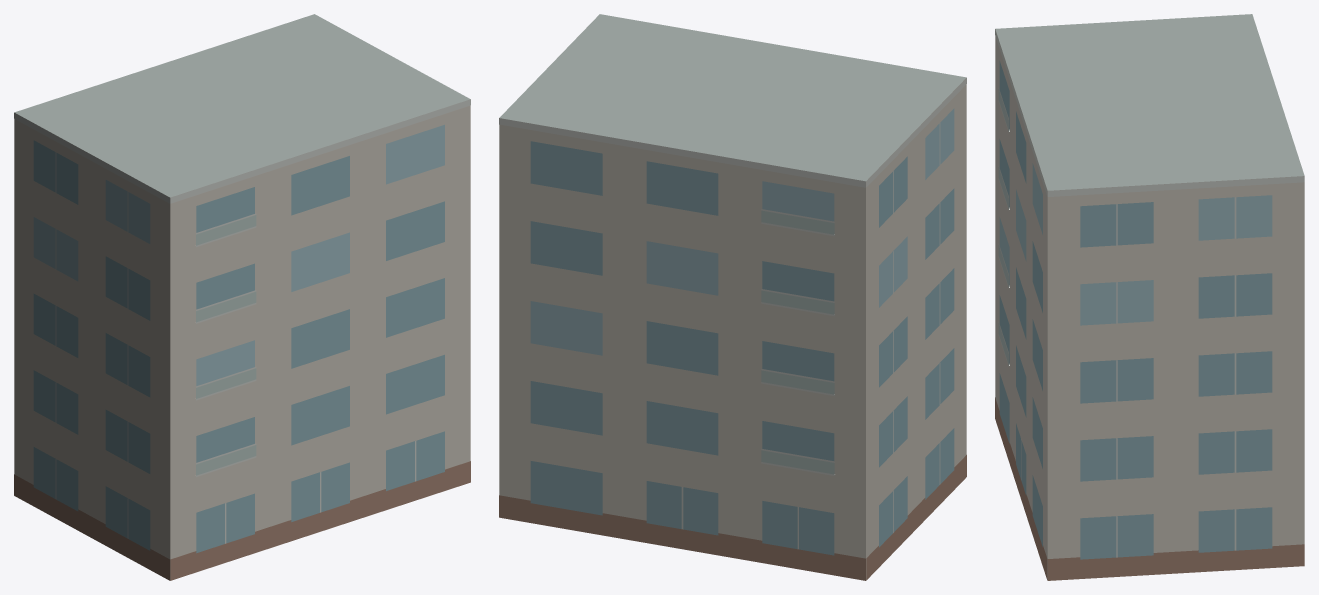
The model's file is survey-upis-32868057.glb.
3 views of the same model, side by side, from view 1: azimuth 30°, elevation 25°; view 2: azimuth 150°, elevation 25°; view 3: azimuth 270°, elevation 25° (orthographic). The views are drawn at different scales.
Parts seen in each view (by area): view 1: survey-upis-32868057.tmp; view 2: survey-upis-32868057.tmp; view 3: survey-upis-32868057.tmp.
Part boxes in pixels (x1,y1,x2,y2): survey-upis-32868057.tmp: (14,14,470,580); survey-upis-32868057.tmp: (499,14,966,580); survey-upis-32868057.tmp: (995,14,1304,580).
Size of the model in its own units: 14.54 by 14.95 by 10.76.
